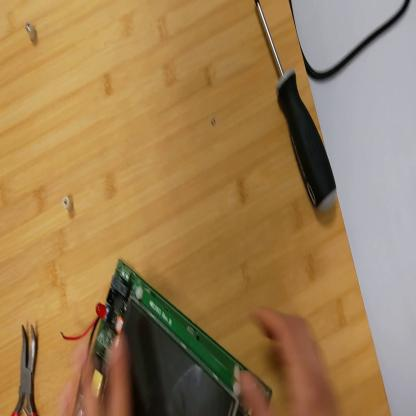hand: (236, 310, 334, 415), (77, 311, 136, 414)
low voltage board: (60, 257, 273, 415)
pliers: (11, 325, 40, 415)
screwdriver-: (257, 3, 339, 214)
working area: (2, 1, 394, 416)
